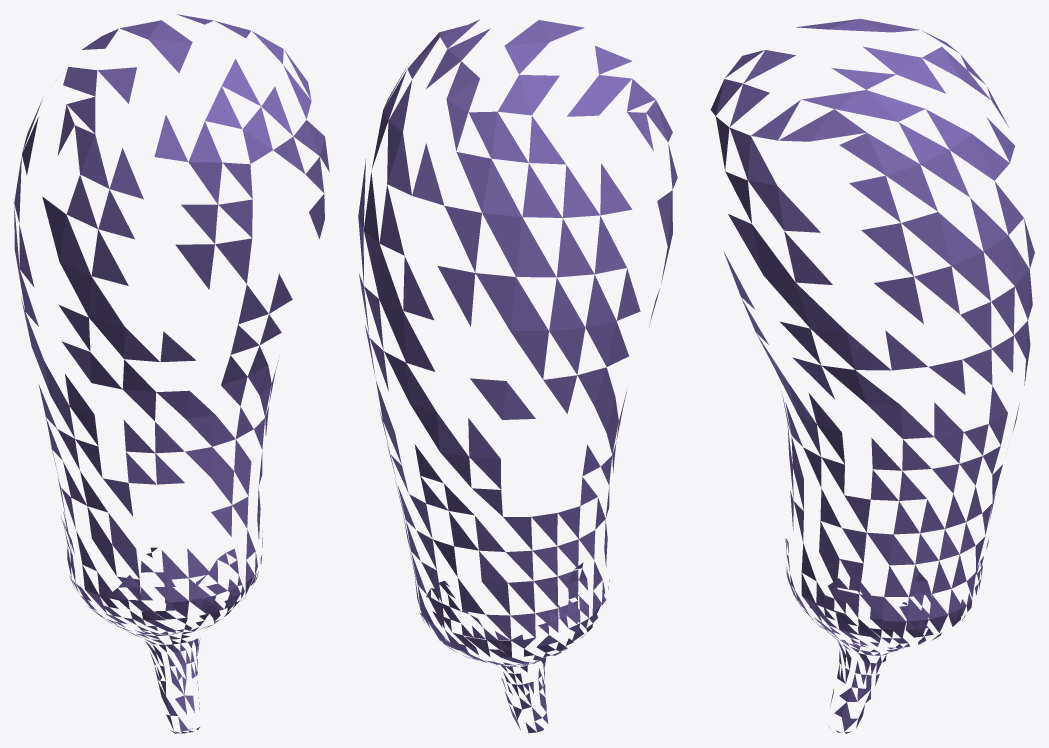
File: food_produce_eggplant_a01.glb
The picture shows the model from 3 angles, left to right: view 1: azimuth 30°, elevation 25°; view 2: azimuth 150°, elevation 25°; view 3: azimuth 270°, elevation 25°; orthographic projection.
Parts seen in each view (by area): view 1: geometry_0; view 2: geometry_0; view 3: geometry_0.
Part boxes in pixels (x1=…): geometry_0: x1=14, y1=14, x2=329, y2=733; geometry_0: x1=358, y1=19, x2=677, y2=733; geometry_0: x1=710, y1=18, x2=1034, y2=733.
Bounding box in the file's own units: 0.1936 × 0.48 × 0.2039.
